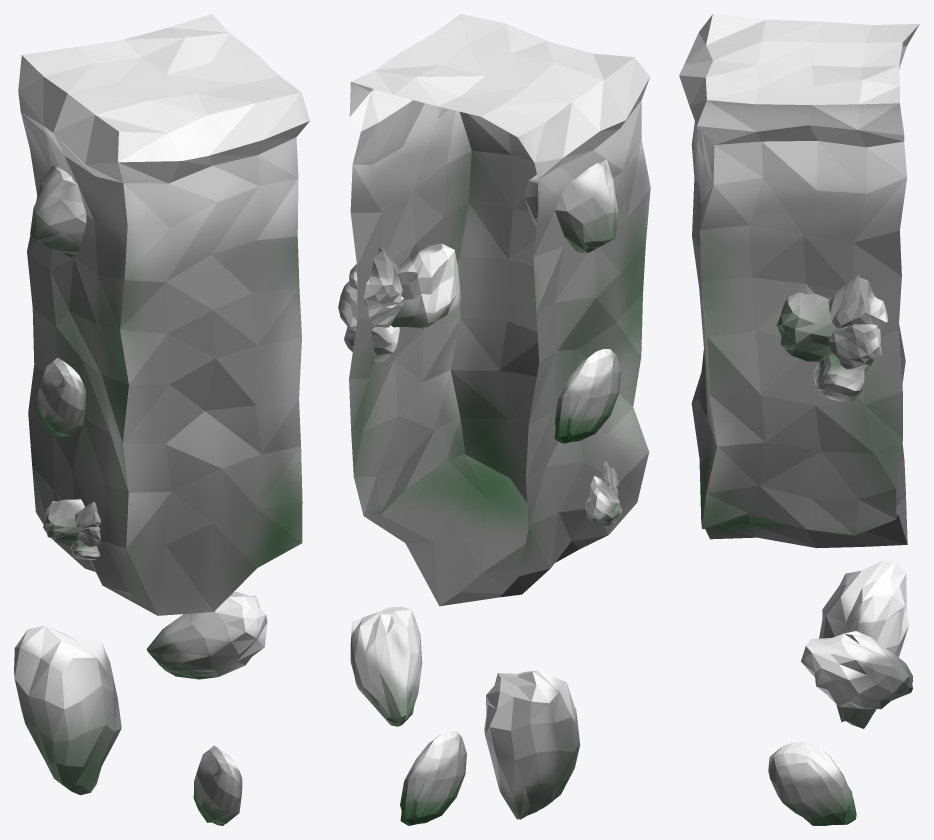
File: TallPlatform04_TEX.FBX
The picture shows the model from 3 angles, left to right: view 1: azimuth 30°, elevation 25°; view 2: azimuth 150°, elevation 25°; view 3: azimuth 270°, elevation 25°; orthographic projection. The views are drawn at different scales.
Visible parts, largest first — view 1: Box036; view 2: Box036; view 3: Box036.
Part boxes in pixels (x1=…): Box036: x1=14, y1=14, x2=309, y2=825; Box036: x1=338, y1=14, x2=650, y2=825; Box036: x1=679, y1=14, x2=919, y2=825.
Bounding box in the file's own units: 84.98 × 243 × 71.43.
Materials: 1 (1 with a texture image).
